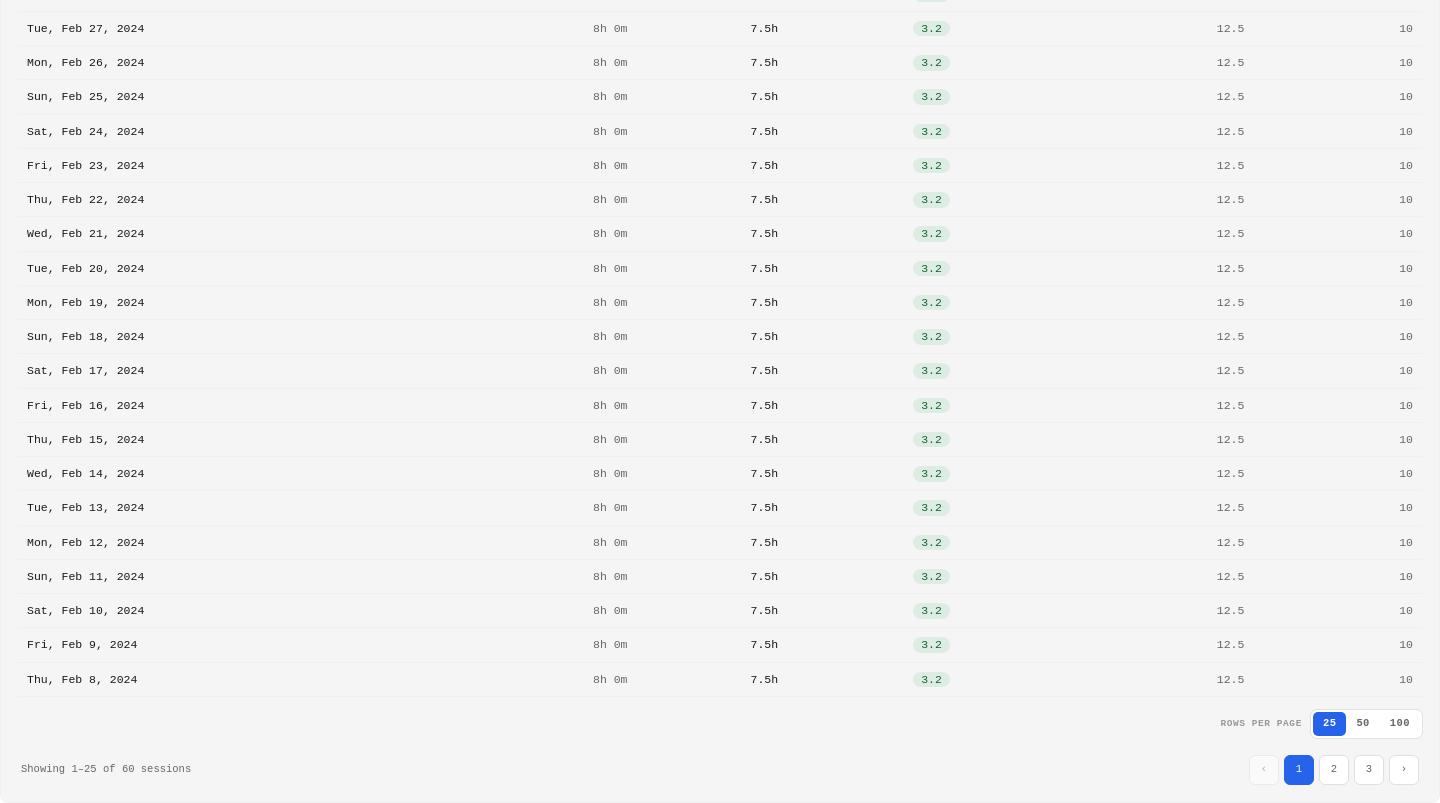
Test: SessionList — pagination URL state › writes ?page=2 to the URL when the Page 2 control is clicked from page 1
(page scrolled)
Click the button named "Page 2": (1334, 770) [1319,755,1349,785]
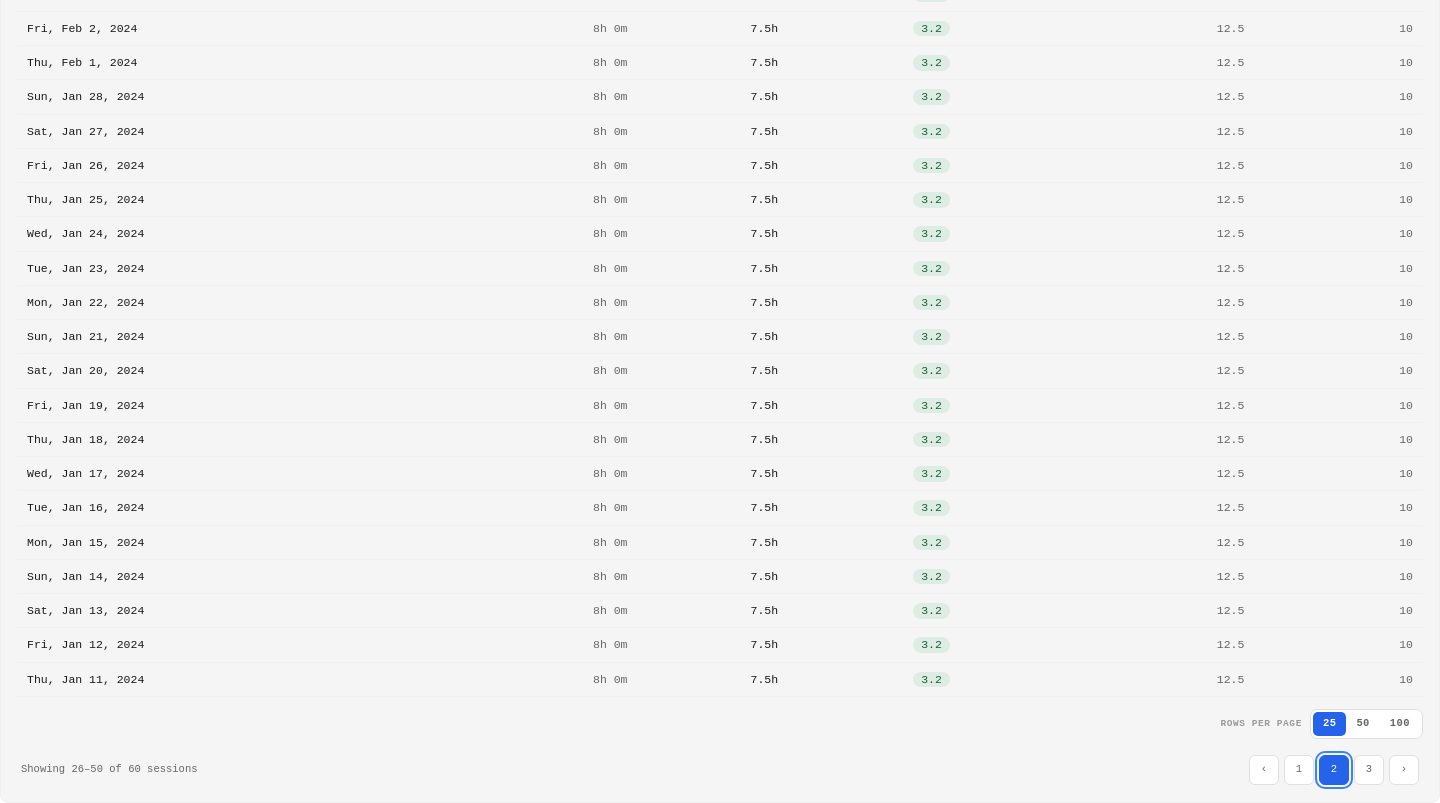
Result: the text "Showing 26–50 of 60 sessions" is shown at [21,762,198,778]
